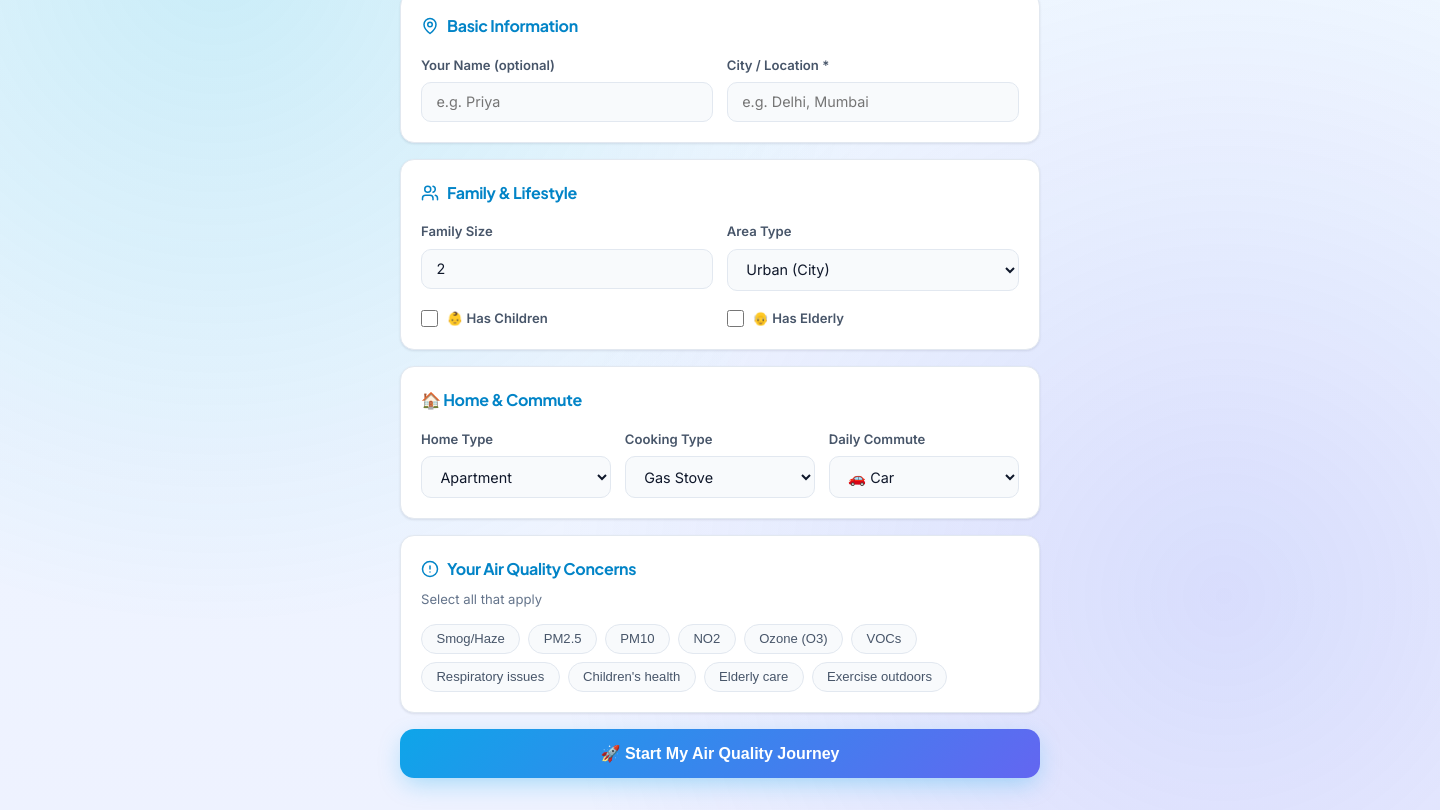
Scenario: ProfileSetup › shows validation error when location is empty
(page scrolled)
Click the button "🚀 Start My Air Quality Journey".
click(720, 753)  # box [400,729,1040,778]
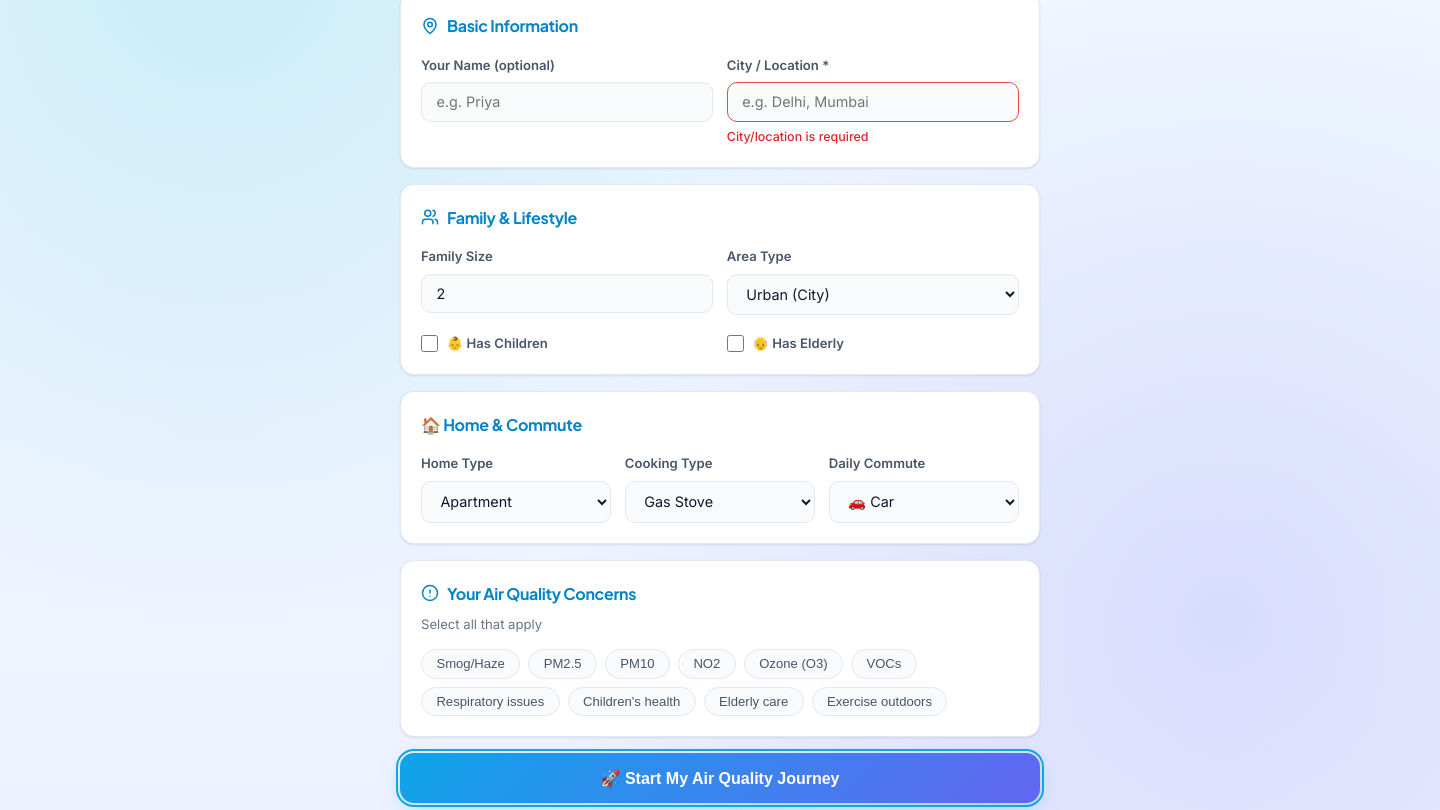
Expected: the message "City/location is required" is shown, [727,129,868,144]
